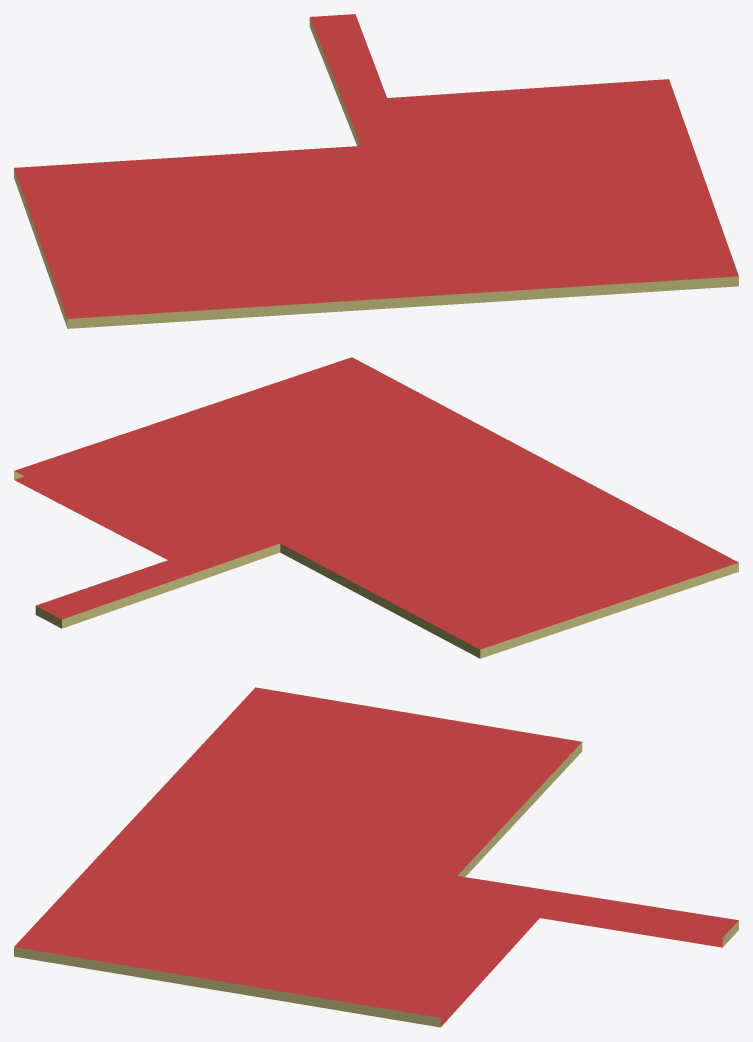
3 views of the same model, one above another, from view 1: azimuth 30°, elevation 25°; view 2: azimuth 150°, elevation 25°; view 3: azimuth 270°, elevation 25° (orthographic). The views are drawn at different scales.
Size of the model in its own units: 7.28 by 6.75 by 0.1.
